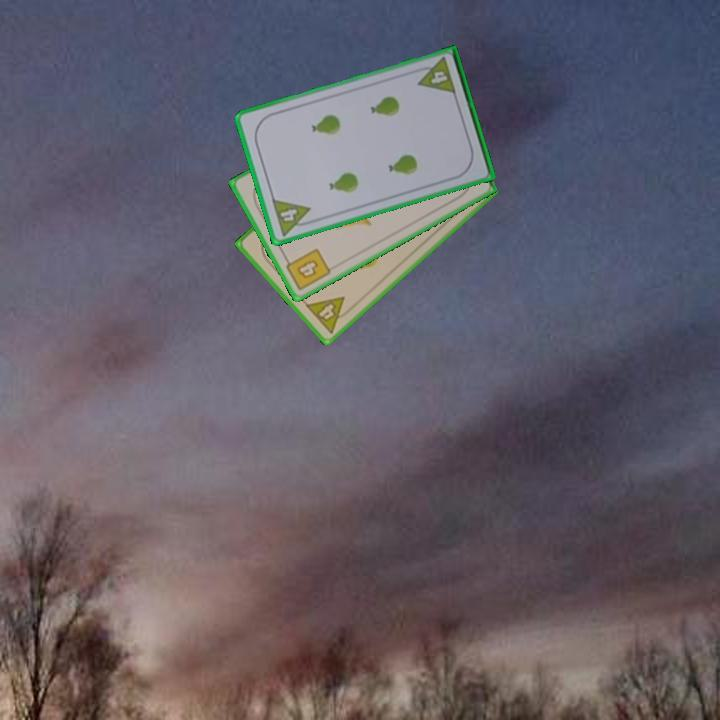4b: (280, 245, 334, 294)
4p: (302, 293, 356, 336), (268, 195, 317, 239), (411, 54, 459, 97)
